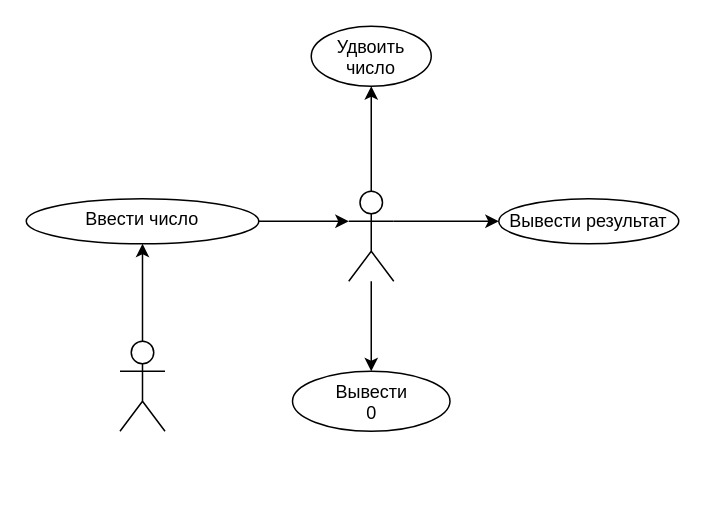
Image size: 705x512. Some labels were removed from this diagram. The shapes that lost their labels are listed below. From the top down, each one's centre as x and y in pixels, then its label:
pixel 370 235: Программа
pixel 141 385: Пользователь
